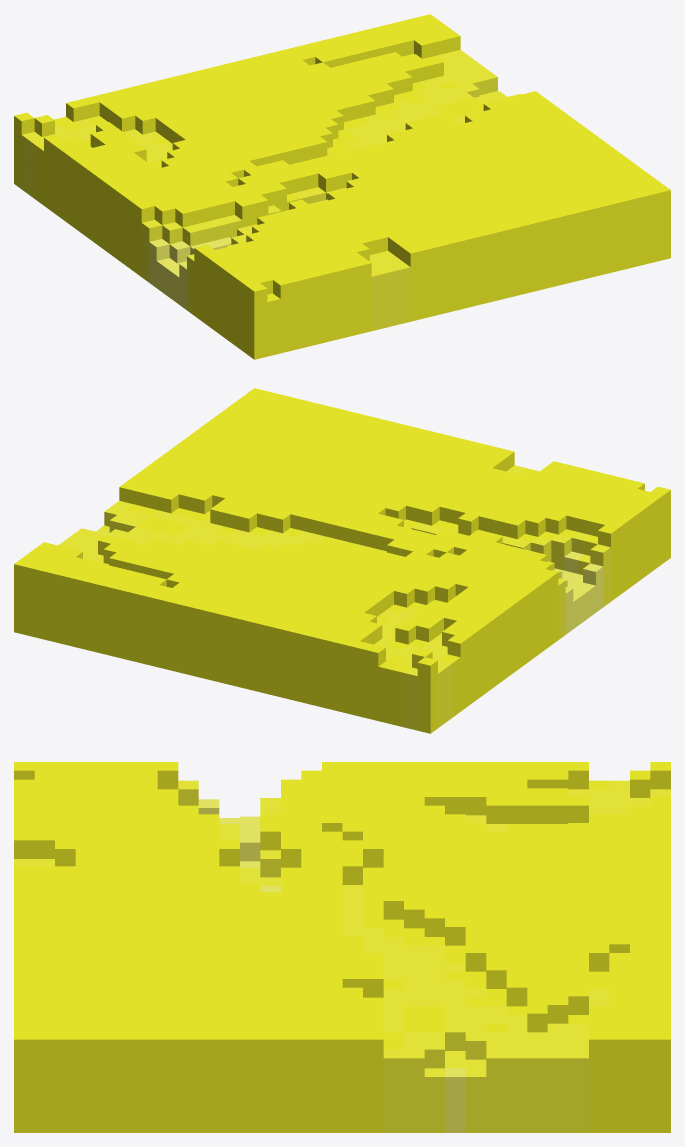
File: Destert Map-0.obj
3 views of the same model, one above another, from view 1: azimuth 30°, elevation 25°; view 2: azimuth 150°, elevation 25°; view 3: azimuth 270°, elevation 25° (orthographic). The views are drawn at different scales.
Size of the model in its own units: 3.2 by 0.5 by 3.2.
1 material, 1 textured.
